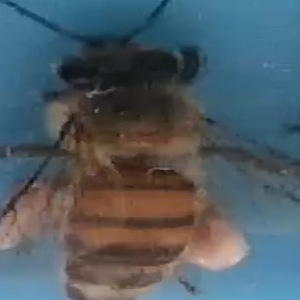bee: (7, 9, 260, 300)
